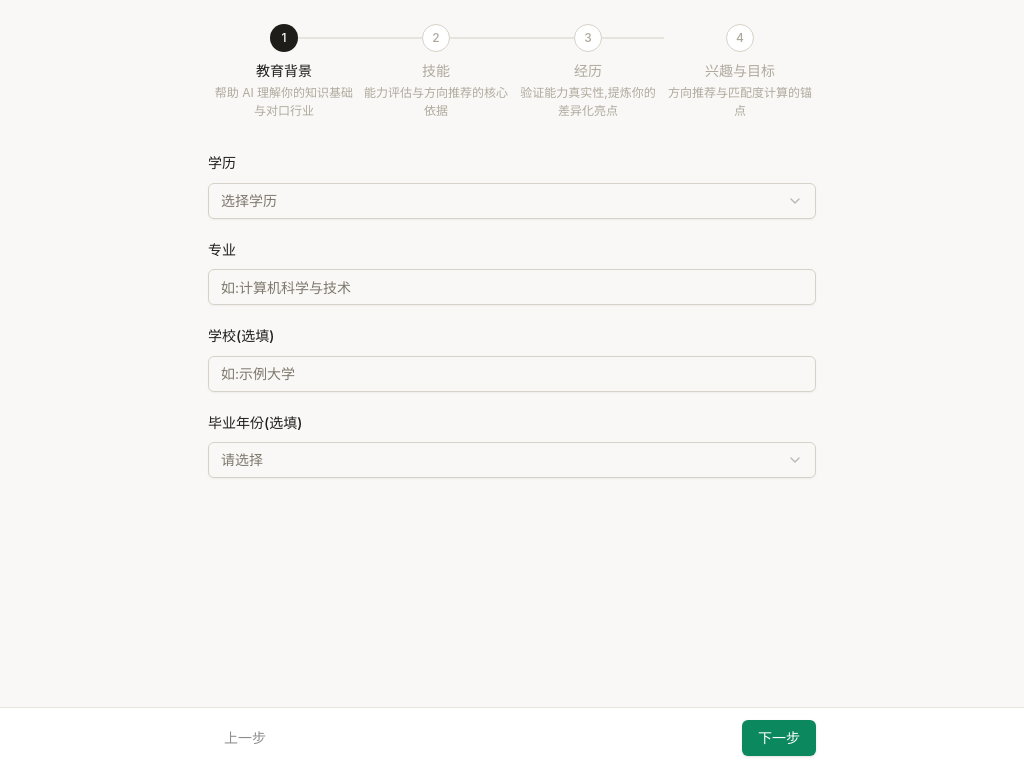
Test: ProfileForm › 第一步必填校验:学历与专业缺失时下一步被拦截并给出提示
What coordinates should you click on to do the following:
click the button "下一步"
I would click on:
 (779, 738)
Its box is [742,720,816,756].
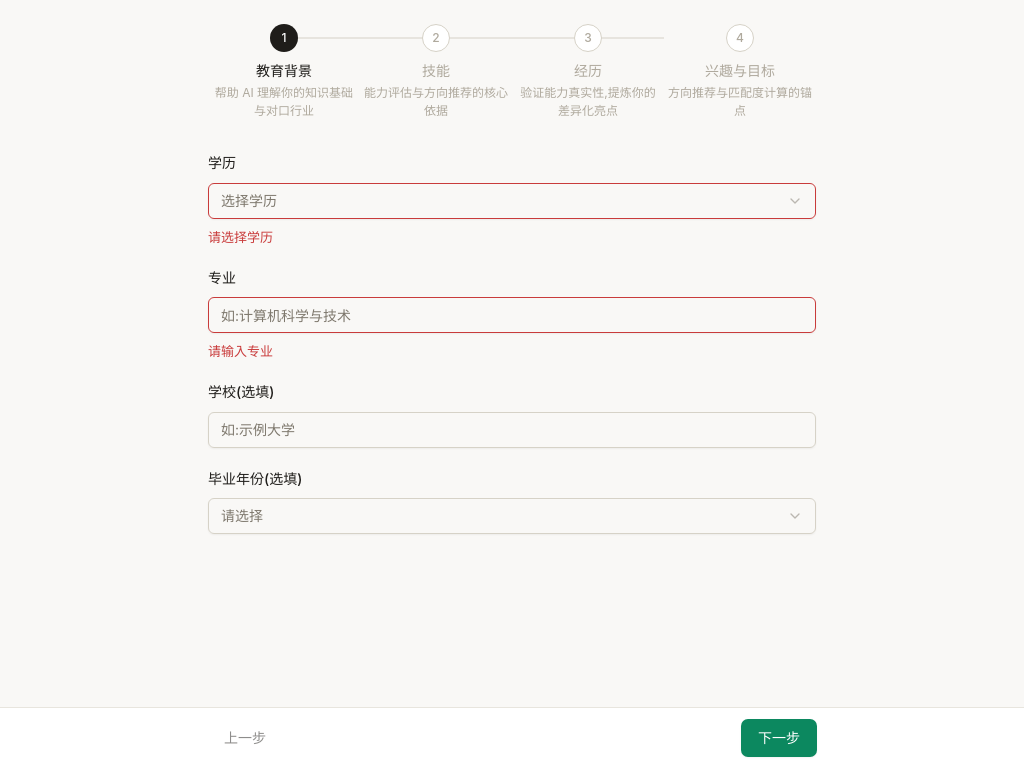
Expected: the list item "1 教育背景 帮助 AI 理解你的知识基础与对口行业" is shown, [208,24,360,120]
Expected: the text "请选择学历" is shown, [208,229,273,245]
Expected: the text "请输入专业" is shown, [208,343,273,359]
